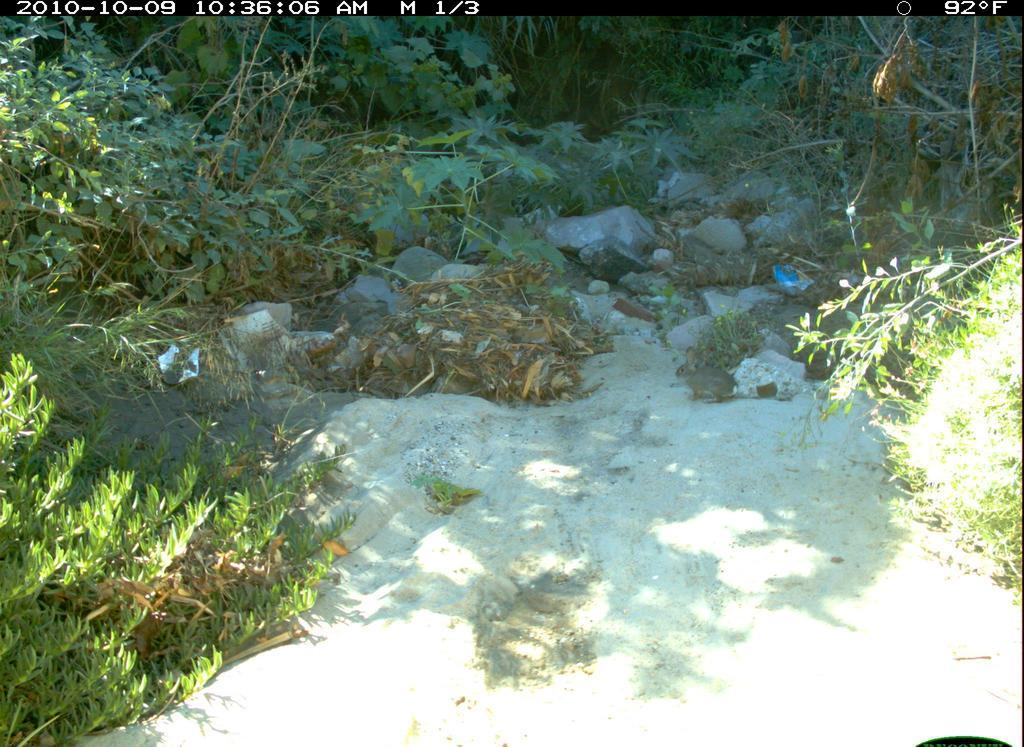rabbit: (670, 342, 742, 408)
